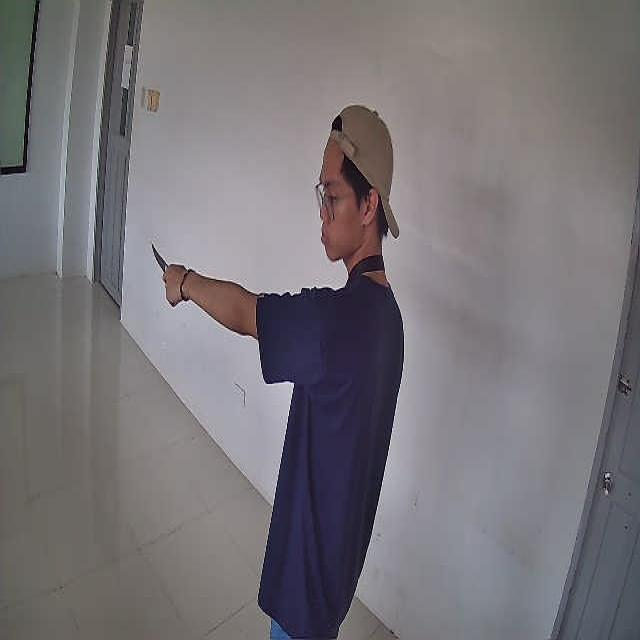knife: (151, 243, 168, 272)
